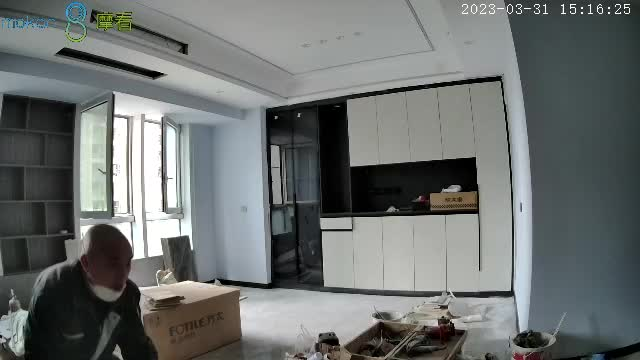people: (23, 224, 160, 360)
window: (81, 106, 184, 257)
